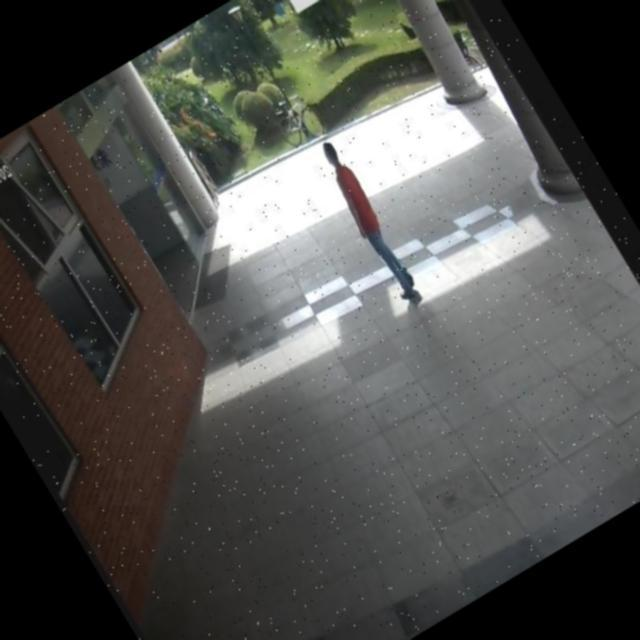person: (301, 127, 434, 316)
